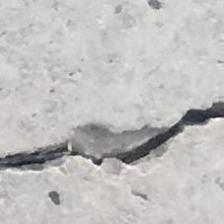Crack: (5, 96, 224, 195)
